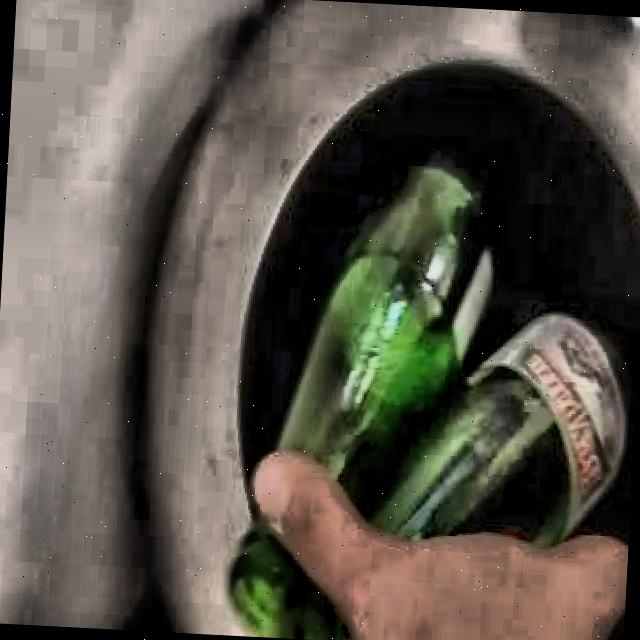glass: (280, 163, 628, 546), (231, 530, 358, 640)
